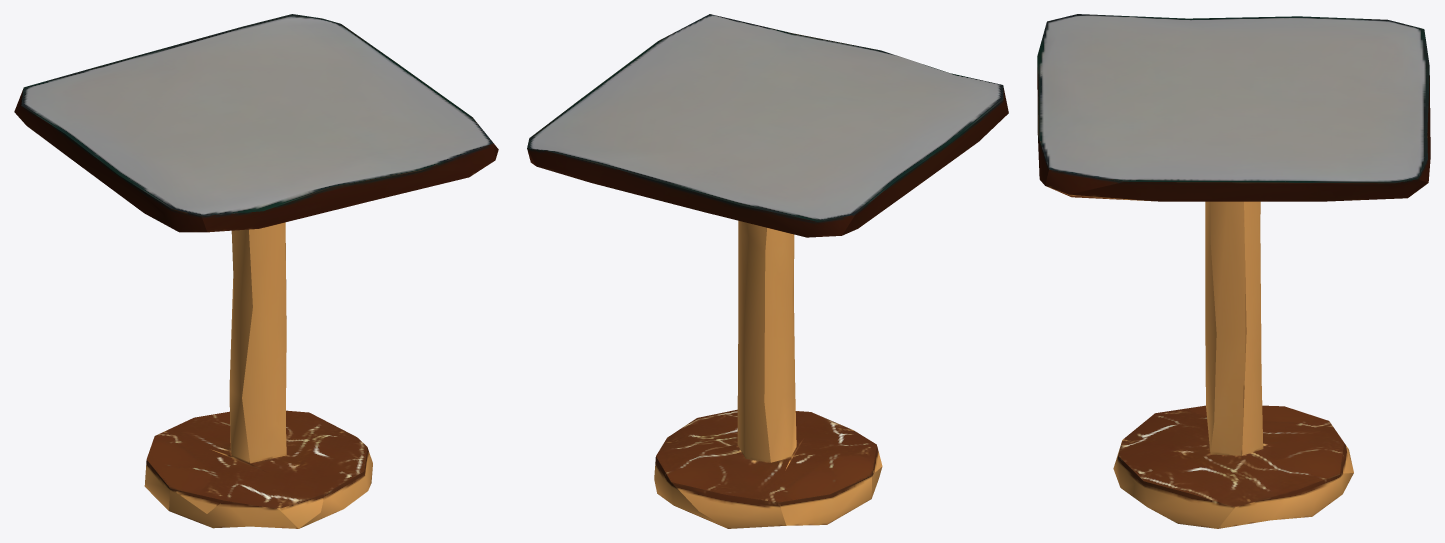
The model's file is penthouse-glass-side-table.glb.
3 views of the same model, side by side, from view 1: azimuth 30°, elevation 25°; view 2: azimuth 150°, elevation 25°; view 3: azimuth 270°, elevation 25° (orthographic). The views are drawn at different scales.
Parts seen in each view (by area): view 1: geometry_0; view 2: geometry_0; view 3: geometry_0.
Part boxes in pixels (x1,y1,x2,y2): geometry_0: [14, 14, 498, 528]; geometry_0: [527, 14, 1008, 528]; geometry_0: [1037, 14, 1430, 528].
Size of the model in its own units: 0.9142 by 1 by 0.9211.
1 material, 1 textured.
